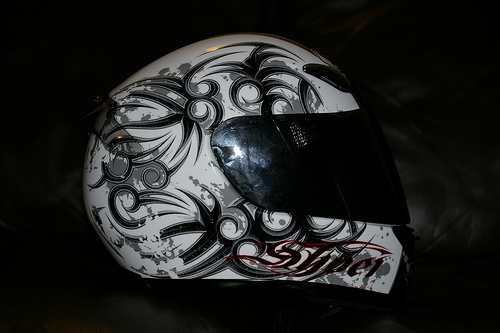helmet: (82, 40, 404, 292)
